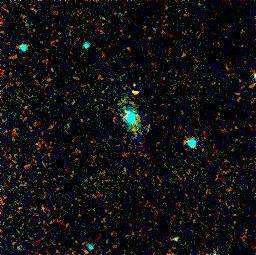star: (117, 77, 147, 107)
